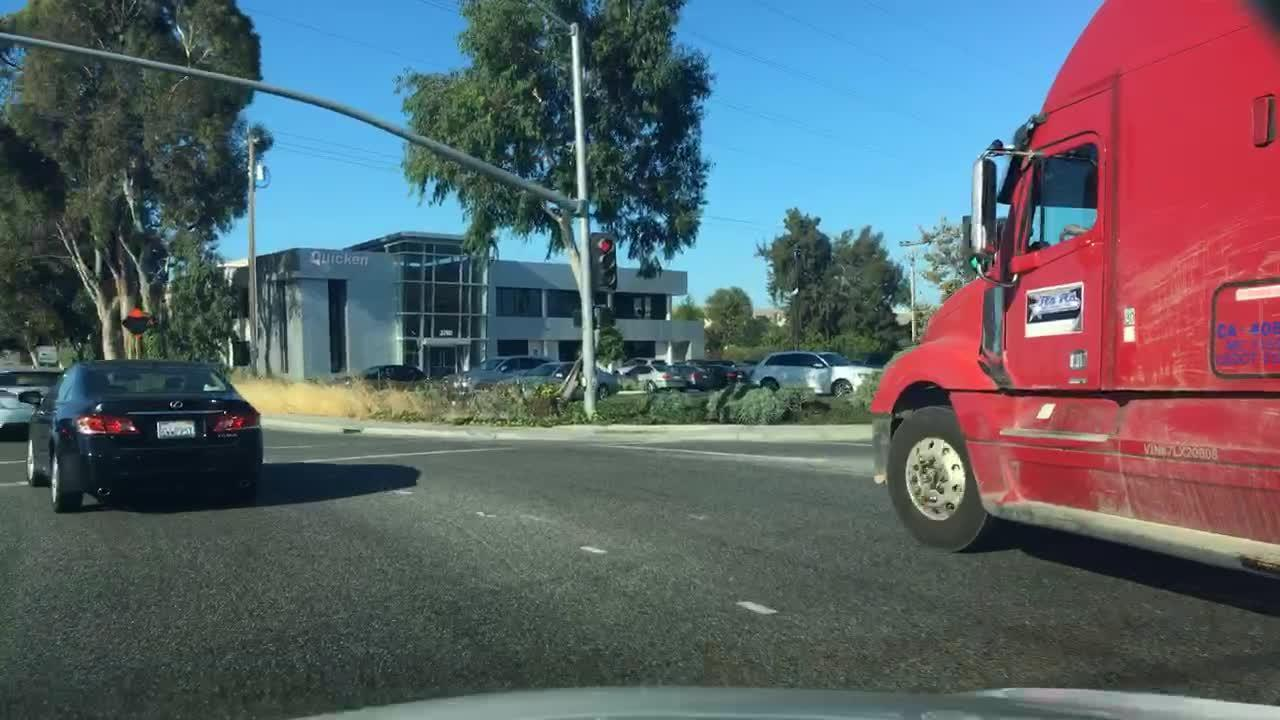lexus: (162, 393, 187, 417)
